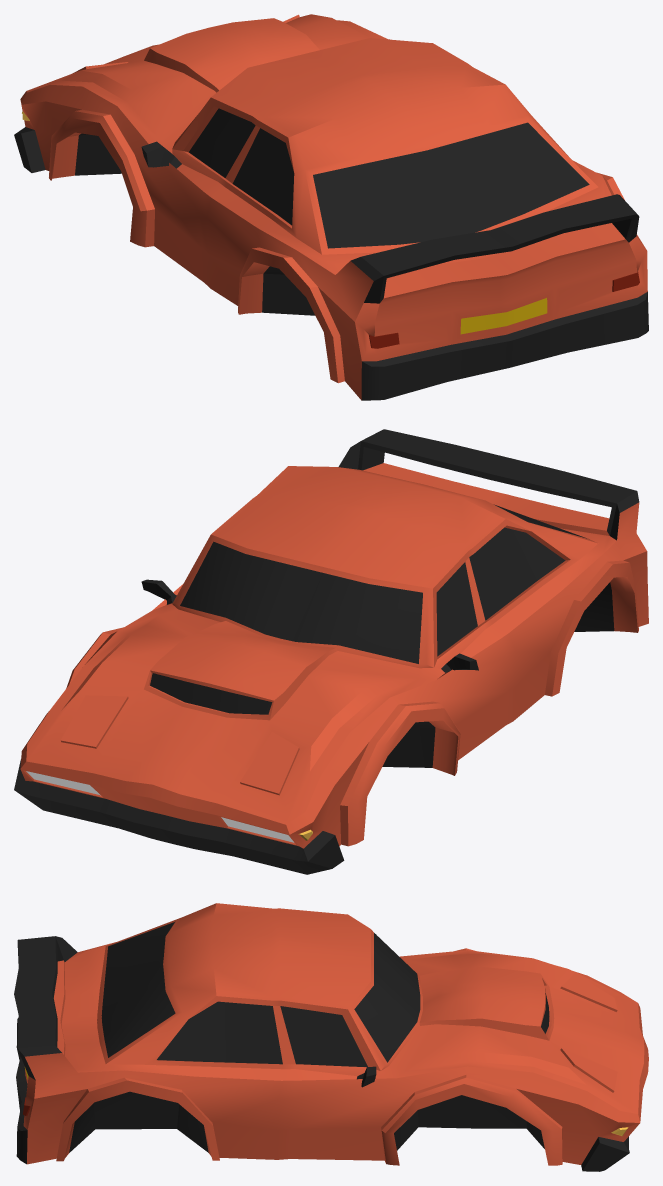
Rendered from sedan_body3.glb.
The picture shows the model from 3 angles, top to bottom: view 1: azimuth 30°, elevation 25°; view 2: azimuth 150°, elevation 25°; view 3: azimuth 270°, elevation 25°; orthographic projection. The views are drawn at different scales.
Visible parts, largest first — view 1: sedan_body.002; view 2: sedan_body.002; view 3: sedan_body.002.
Part boxes in pixels (bbox=[...]): sedan_body.002: bbox=[14, 14, 648, 400]; sedan_body.002: bbox=[14, 429, 648, 874]; sedan_body.002: bbox=[14, 903, 648, 1171].
Bounding box in the file's own units: 1.59 × 0.8951 × 2.98.
Materials: 1 (1 with a texture image).
